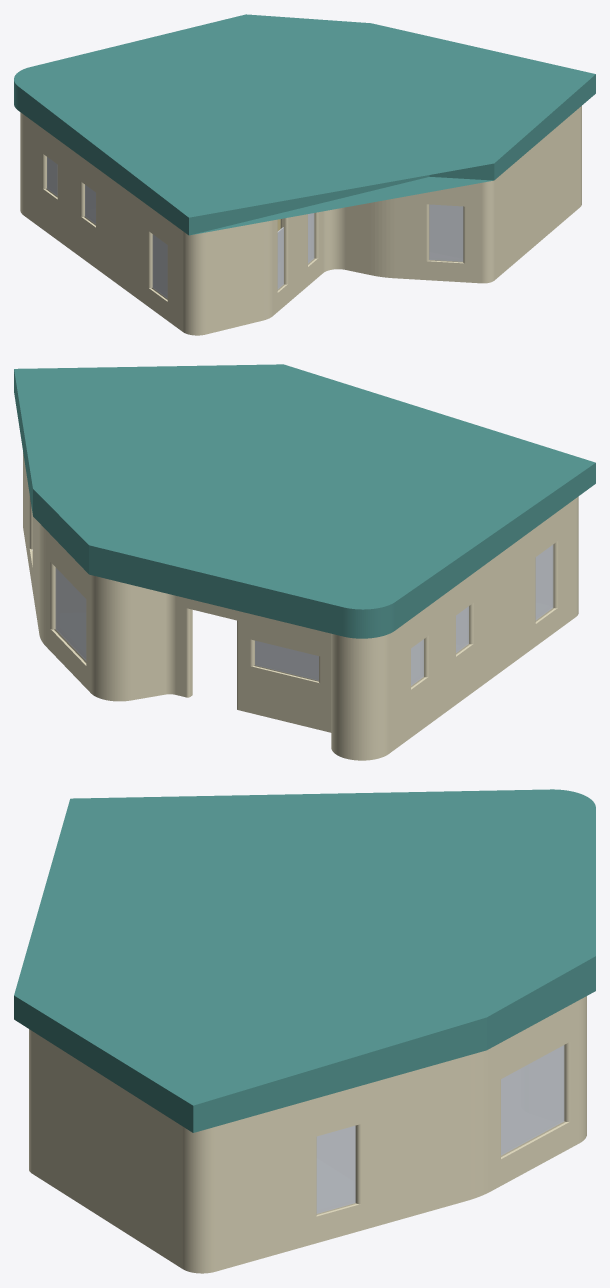
Rendered from flat_roof.glb.
3 views of the same model, one above another, from view 1: azimuth 30°, elevation 25°; view 2: azimuth 150°, elevation 25°; view 3: azimuth 270°, elevation 25° (orthographic). The views are drawn at different scales.
Size of the model in its own units: 41.44 by 11.52 by 32.94.
